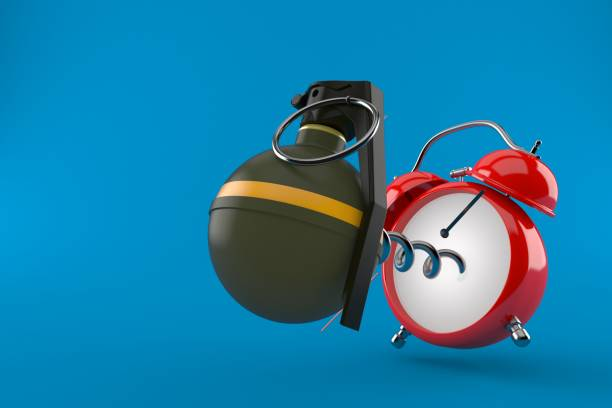e1: (205, 79, 387, 332)
